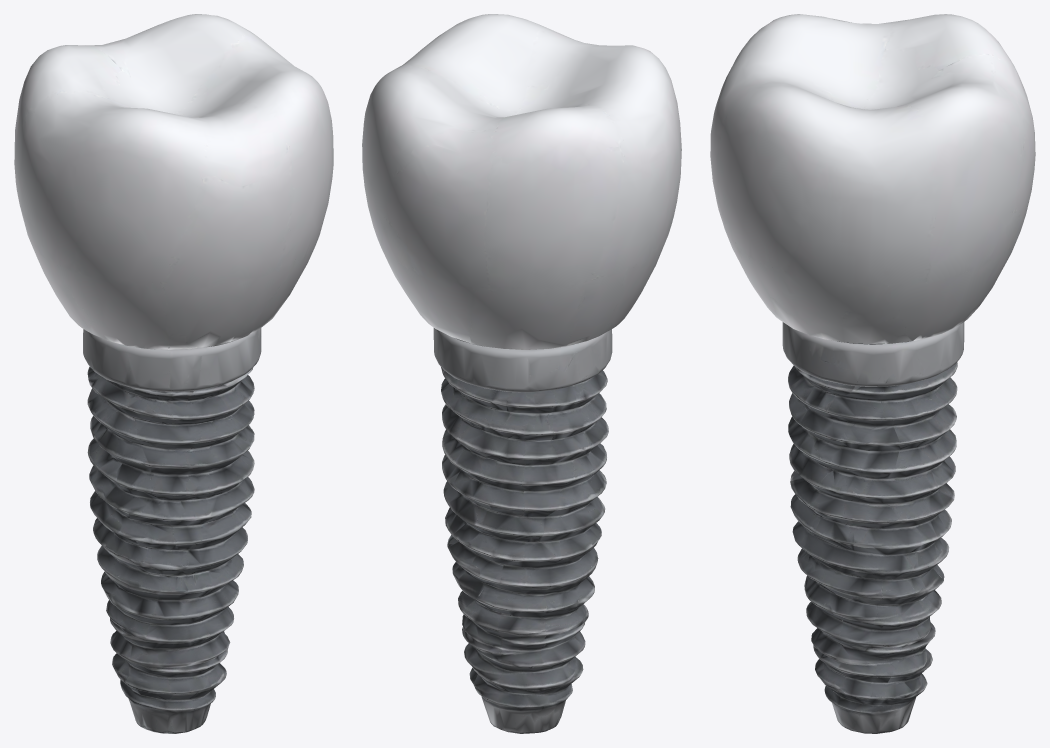
File: impianto-hero.glb
3 views of the same model, side by side, from view 1: azimuth 30°, elevation 25°; view 2: azimuth 150°, elevation 25°; view 3: azimuth 270°, elevation 25° (orthographic).
Bounding box in the file's own units: 0.053 × 0.12 × 0.0531.
Materials: 1 (1 with a texture image).
